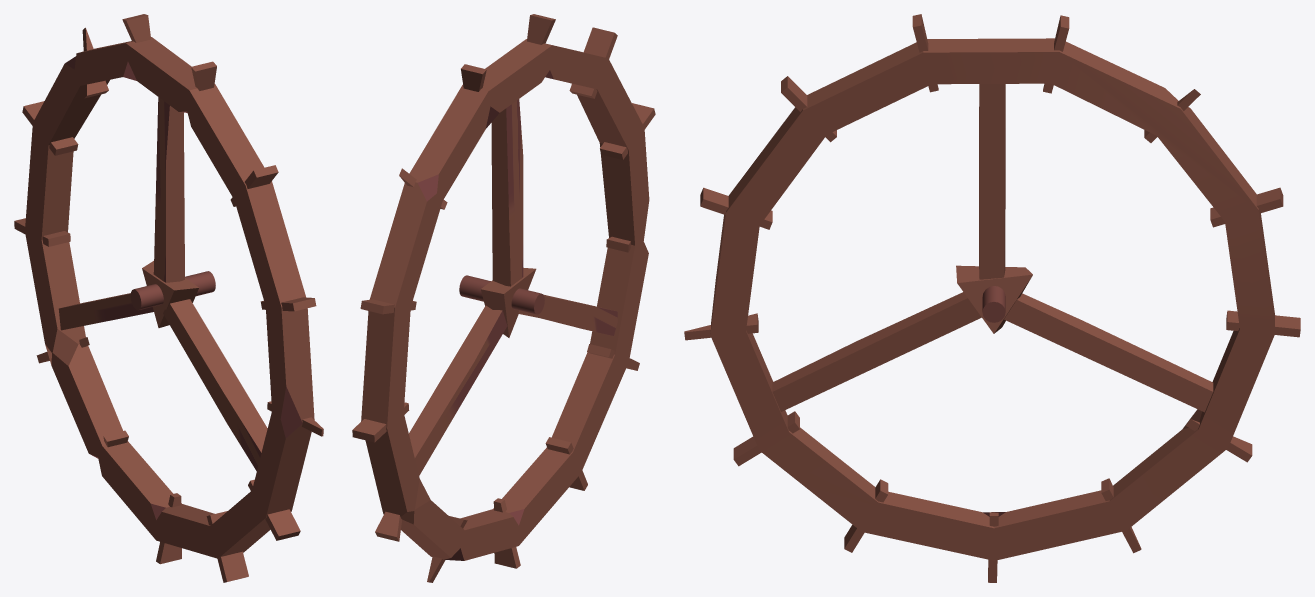
Rendered from Mill.fbx.
The picture shows the model from 3 angles, left to right: view 1: azimuth 30°, elevation 25°; view 2: azimuth 150°, elevation 25°; view 3: azimuth 270°, elevation 25°; orthographic projection. The views are drawn at different scales.
Parts seen in each view (by area): view 1: Circle, Cube.068, Cube.067, Cube.001, Circle.001, Circle.002, Cube.077, Cube.076, Cube.069, Cube.071, Cube.078, Cube.072 (+4 smaller); view 2: Circle, Cube.067, Cube.001, Cube.068, Circle.001, Circle.002, Cube.073, Cube.074, Cube.072, Cube.081, Cube.080, Cube.078 (+3 smaller); view 3: Circle, Cube.001, Cube.068, Cube.067, Circle.001, Cube.081, Circle.002.
Boxes of the visible parts, box(x1,y1,x2,y2) form: Circle: box(25, 37, 314, 558); Cube.068: box(163, 299, 267, 471); Cube.067: box(153, 97, 184, 282); Cube.001: box(58, 293, 153, 330); Circle.001: box(142, 261, 198, 327); Circle.002: box(130, 271, 215, 310); Cube.077: box(206, 511, 248, 582); Cube.076: box(248, 479, 300, 540); Cube.069: box(22, 101, 78, 155); Cube.071: box(122, 14, 150, 42); Cube.078: box(156, 493, 181, 564); Cube.072: box(191, 61, 216, 90); Circle: box(361, 39, 649, 560); Cube.067: box(491, 99, 523, 286); Cube.001: box(409, 305, 507, 475); Cube.068: box(518, 295, 617, 335); Circle.001: box(480, 267, 536, 337); Circle.002: box(459, 275, 544, 314); Cube.073: box(569, 27, 617, 98); Cube.074: box(600, 103, 655, 159); Cube.072: box(527, 14, 555, 44); Cube.081: box(352, 402, 409, 442); Cube.080: box(375, 511, 401, 541); Cube.078: box(493, 498, 520, 568); Circle: box(710, 38, 1275, 560); Cube.001: box(1004, 293, 1213, 412); Cube.068: box(772, 292, 981, 411); Cube.067: box(979, 84, 1005, 279); Circle.001: box(956, 265, 1032, 333); Cube.081: box(1226, 310, 1300, 337); Circle.002: box(982, 286, 1005, 322).
Bounding box in the file's own units: 103 × 688 × 690.
